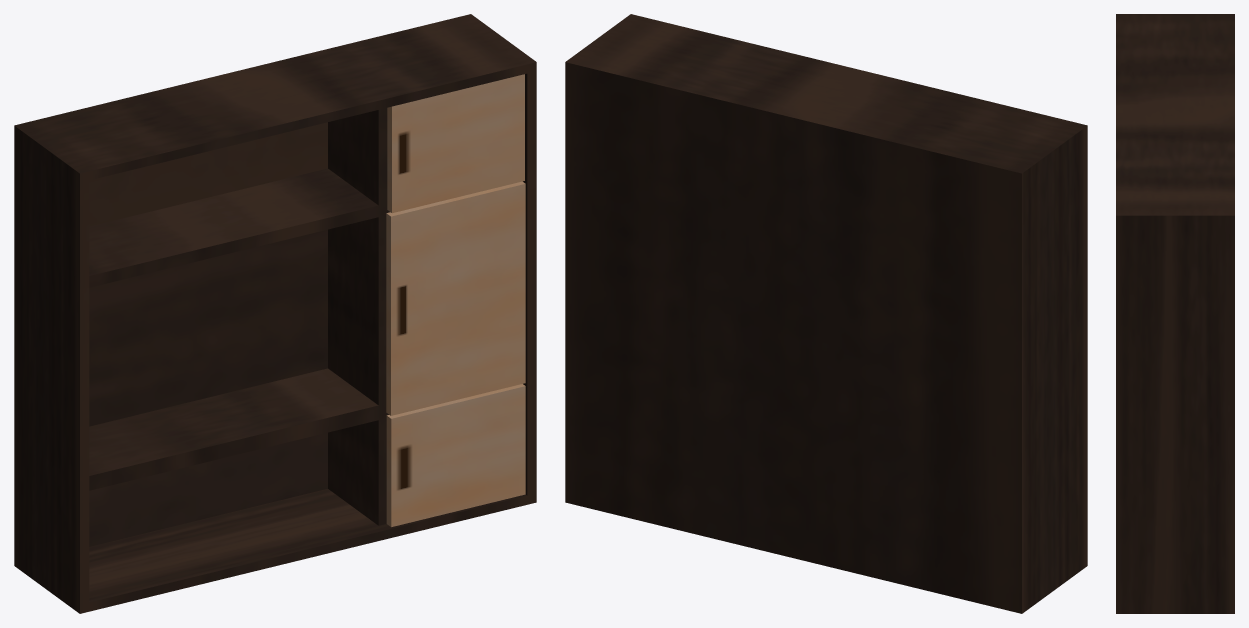
Rendered from bib.fbx.
The picture shows the model from 3 angles, left to right: view 1: azimuth 30°, elevation 25°; view 2: azimuth 150°, elevation 25°; view 3: azimuth 270°, elevation 25°; orthographic projection. The views are drawn at different scales.
Visible parts, largest first — view 1: Cube; view 2: Cube; view 3: Cube.
Boxes of the visible parts, x1=… form: Cube: x1=14, y1=14, x2=536, y2=613; Cube: x1=565, y1=14, x2=1087, y2=613; Cube: x1=1116, y1=14, x2=1234, y2=613.
Size of the model in its own units: 802 by 739 by 200.
Materials: 1 (1 with a texture image).
